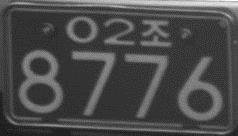0: (65, 15, 98, 43)
2: (103, 16, 135, 47)
6: (176, 56, 224, 122)
7: (122, 51, 168, 118), (71, 49, 116, 117)
8: (17, 48, 64, 113)
조: (140, 18, 172, 48)
